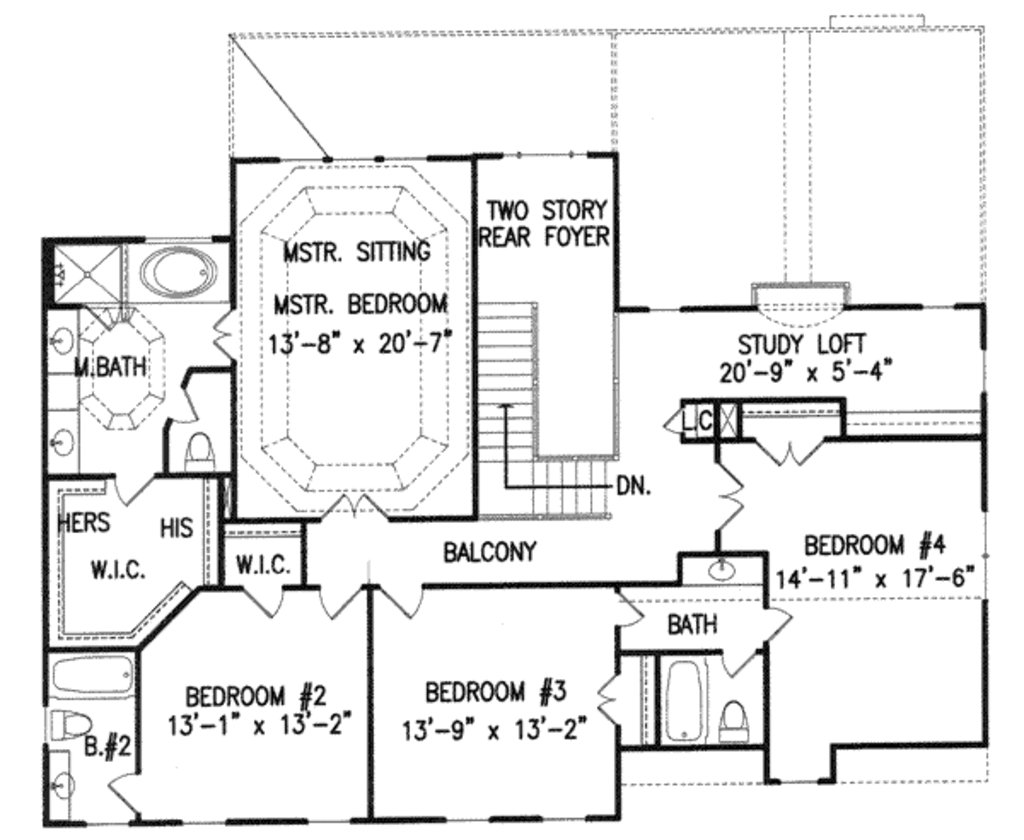door: (753, 434, 831, 473), (714, 457, 750, 536), (307, 579, 360, 621), (374, 582, 428, 620), (235, 583, 283, 622), (207, 304, 237, 366), (754, 601, 797, 642), (104, 772, 143, 814), (716, 646, 758, 683), (598, 675, 628, 725), (616, 590, 649, 625), (171, 384, 197, 424)
large_sink: (43, 702, 96, 742), (715, 699, 756, 749), (175, 432, 219, 478)
small_sink: (45, 308, 89, 475), (683, 551, 770, 587), (43, 749, 76, 823)
stairs: (469, 295, 619, 519)
tub: (122, 243, 231, 304), (48, 646, 137, 704), (658, 651, 710, 748)
